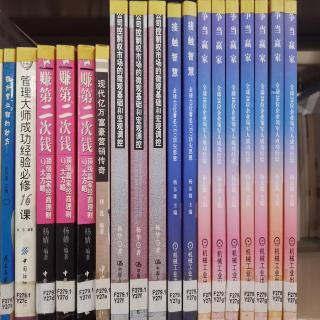book-spine: (107, 1, 131, 320), (128, 3, 150, 320), (146, 2, 167, 320), (13, 49, 37, 320), (35, 46, 55, 320), (55, 45, 75, 319), (76, 47, 96, 320), (195, 1, 212, 319), (224, 3, 241, 320), (209, 2, 226, 318), (267, 2, 284, 317), (166, 4, 183, 316), (282, 1, 298, 317), (239, 3, 254, 320), (253, 3, 268, 319), (182, 6, 197, 317), (0, 49, 16, 320), (96, 45, 111, 319)
